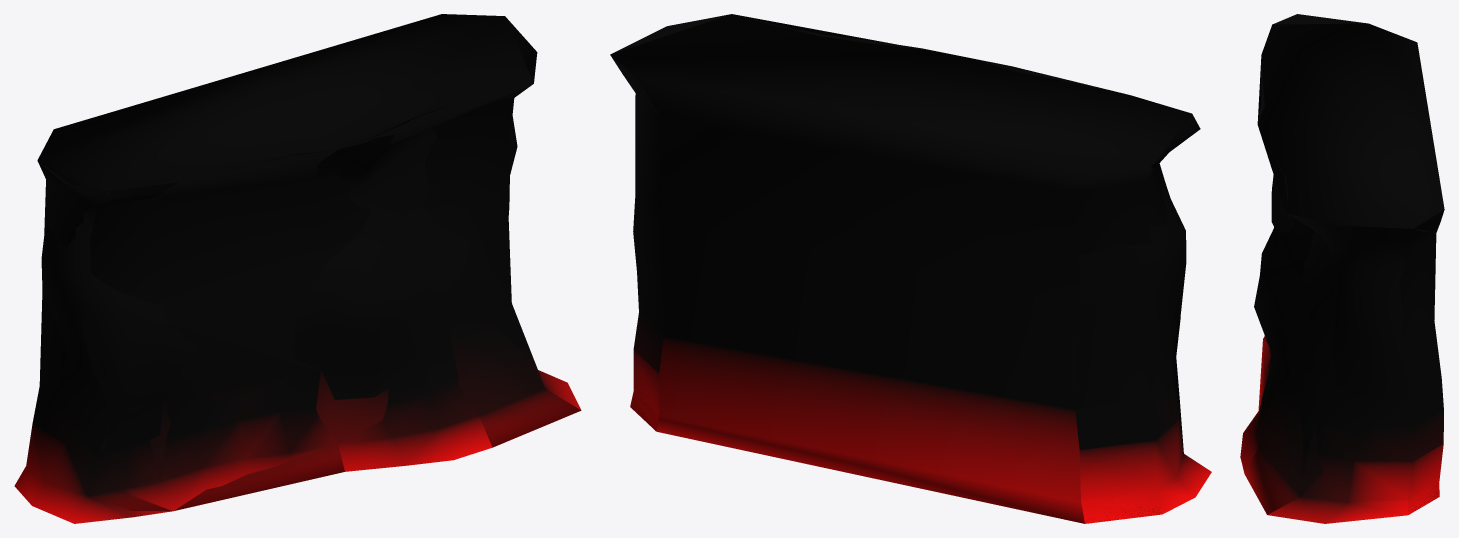
File: JD_Cave_A_Wall_Large_02.fbx
3 renders of one model, left to right at view 1: azimuth 30°, elevation 25°; view 2: azimuth 150°, elevation 25°; view 3: azimuth 270°, elevation 25°, orthographic. The views are drawn at different scales.
Parts seen in each view (by area): view 1: C_JD_Cave_A_Wall_Large_02, JD_Cave_A_Wall_Large_02; view 2: C_JD_Cave_A_Wall_Large_02, JD_Cave_A_Wall_Large_02; view 3: C_JD_Cave_A_Wall_Large_02, JD_Cave_A_Wall_Large_02.
Part boxes in pixels (<box>): C_JD_Cave_A_Wall_Large_02: <box>37,14,581,511</box>; JD_Cave_A_Wall_Large_02: <box>14,16,580,523</box>; C_JD_Cave_A_Wall_Large_02: <box>610,14,1191,523</box>; JD_Cave_A_Wall_Large_02: <box>610,14,1211,523</box>; C_JD_Cave_A_Wall_Large_02: <box>1244,23,1444,514</box>; JD_Cave_A_Wall_Large_02: <box>1240,14,1444,523</box>.
Bounding box in the file's own units: 17.51 × 10.7 × 6.71.
